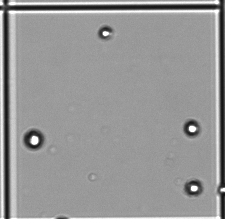Living Cell: (23, 129, 43, 150), (185, 179, 202, 195), (184, 120, 199, 138), (99, 25, 112, 39)
